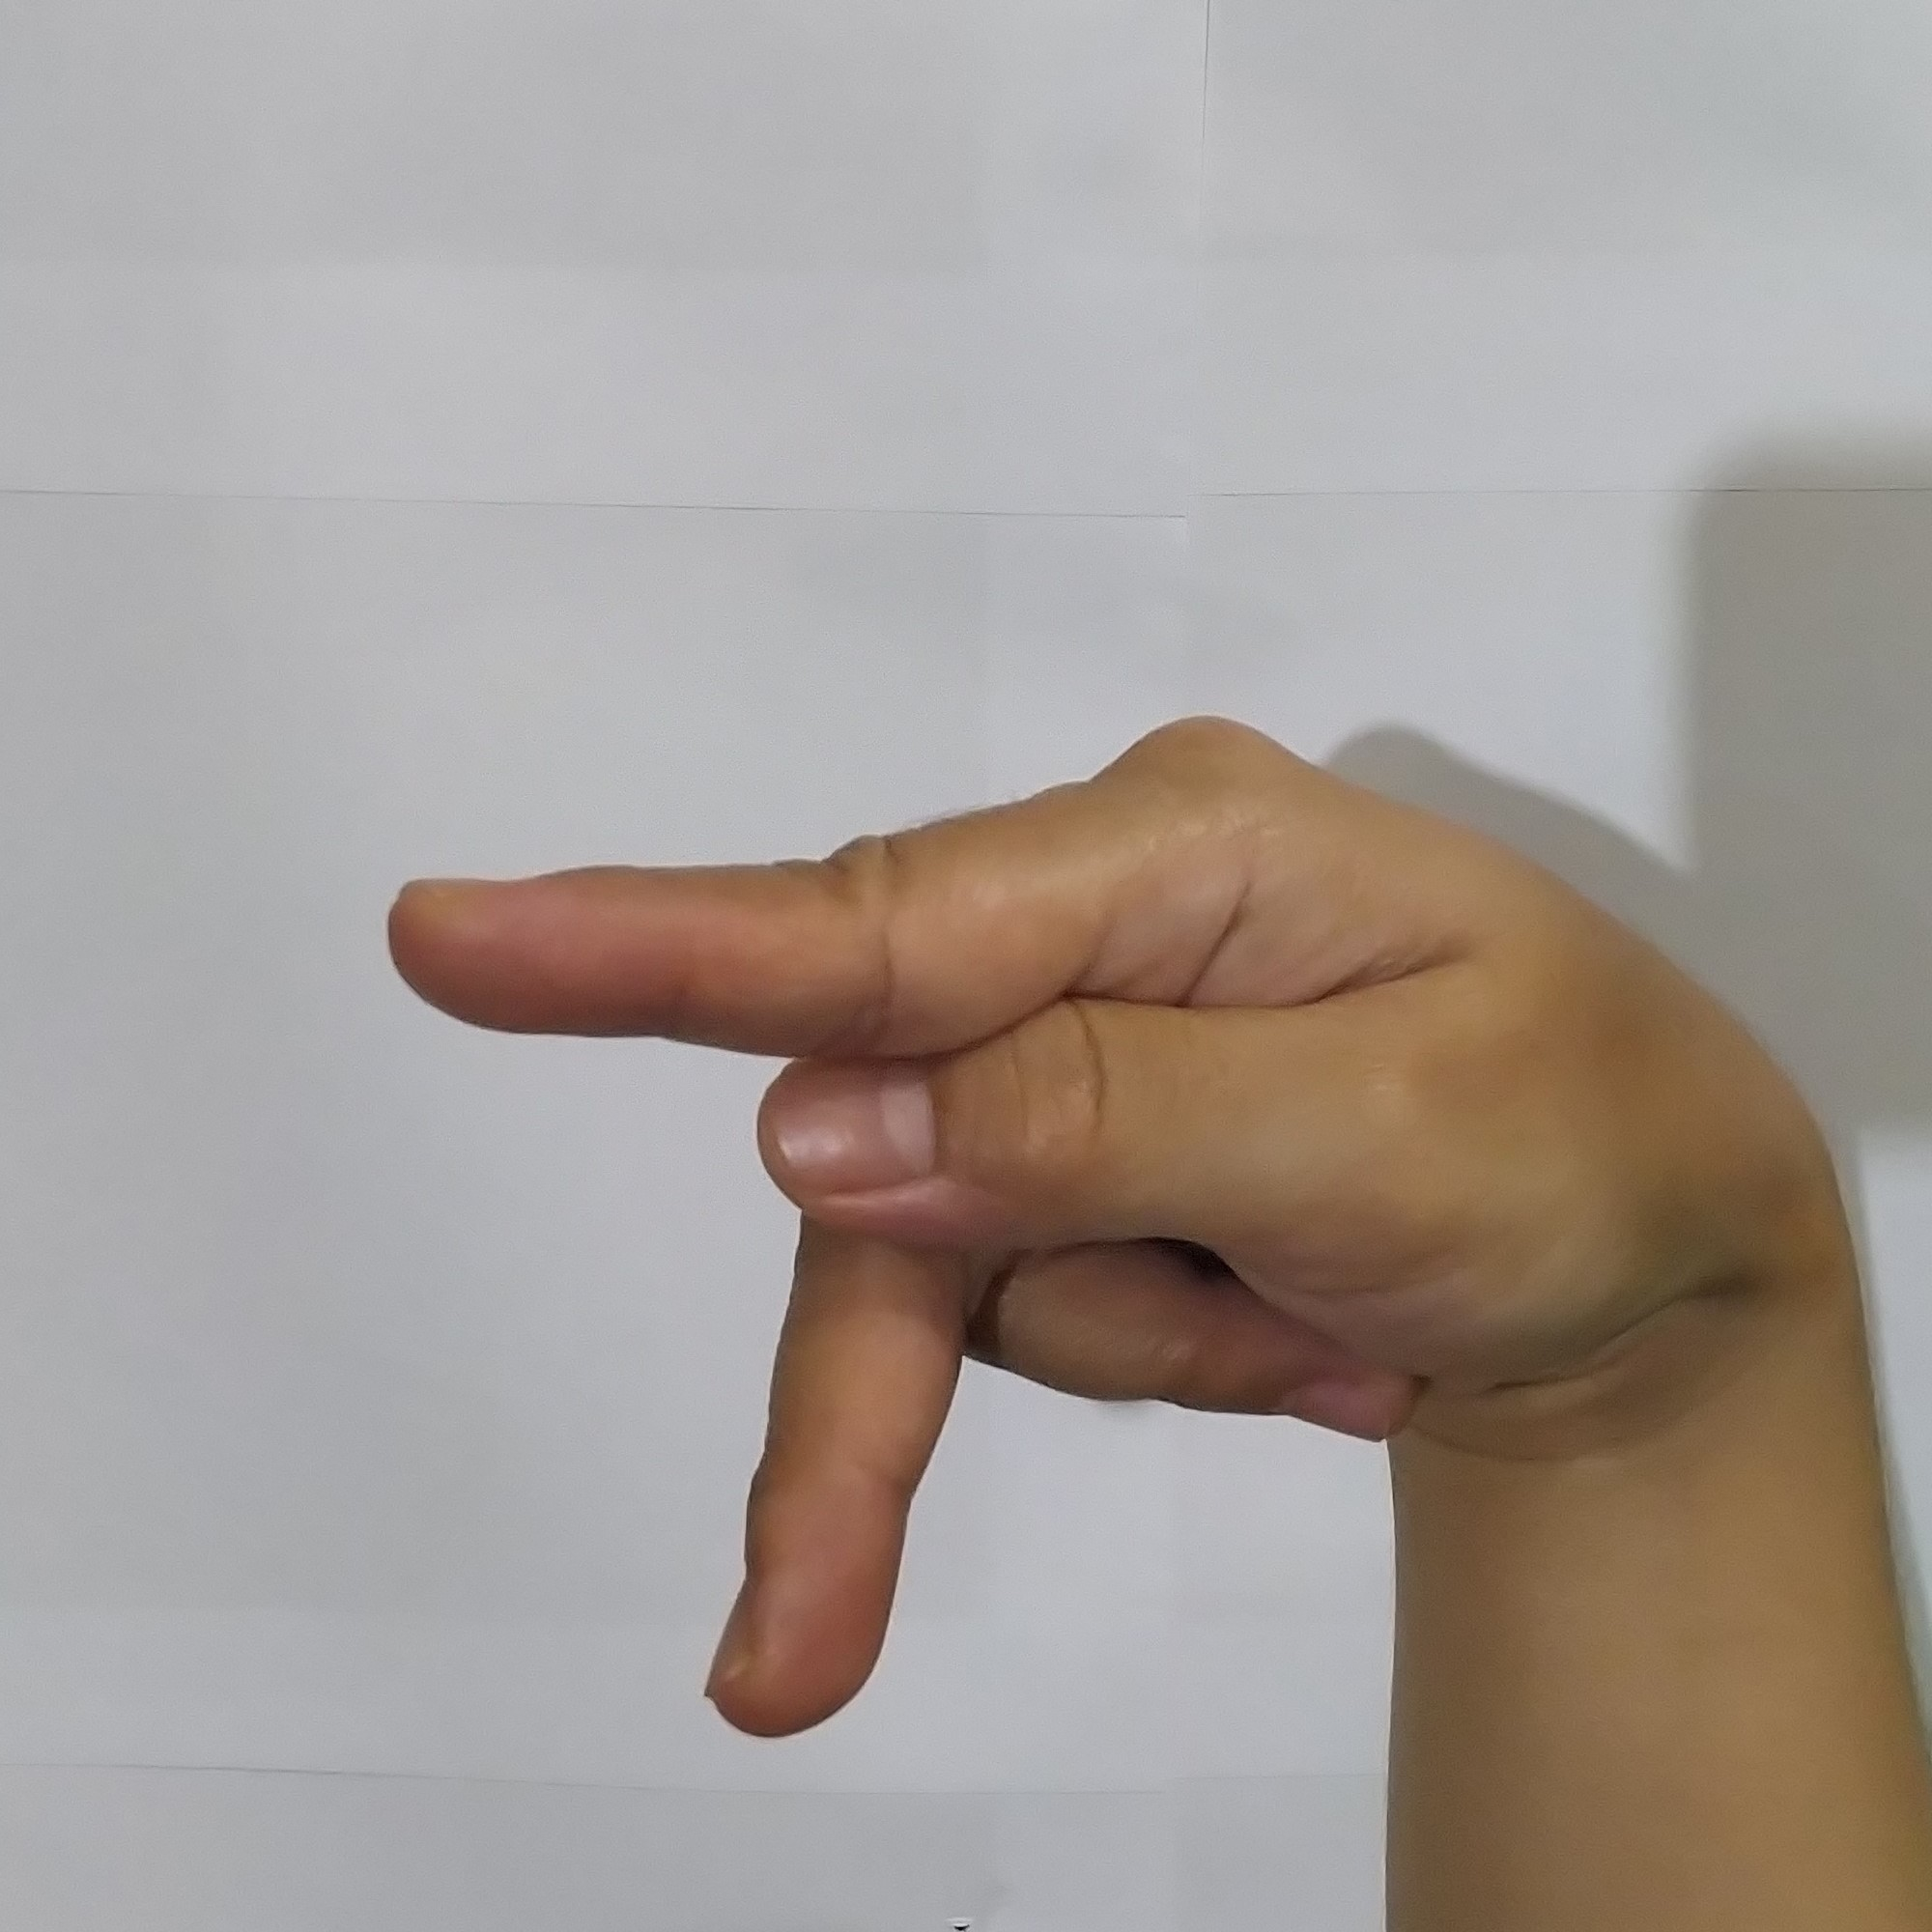P: (329, 681, 1918, 1755)
